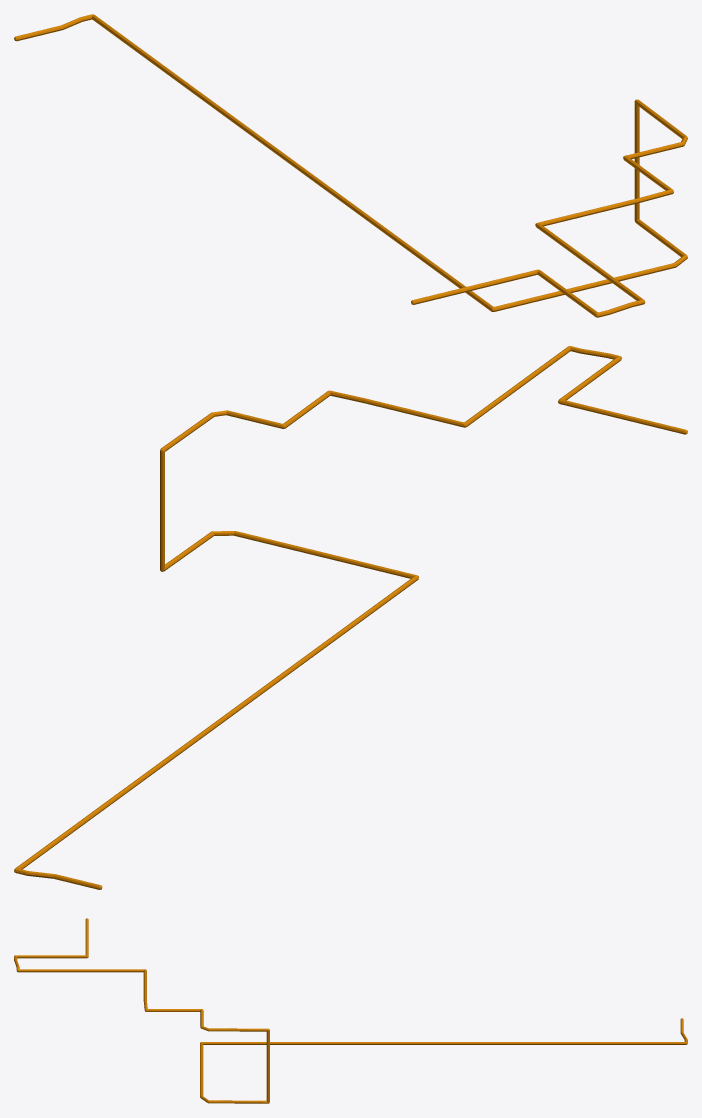
3 renders of one model, top to bottom at view 1: azimuth 30°, elevation 25°; view 2: azimuth 150°, elevation 25°; view 3: azimuth 270°, elevation 25°, orthographic. The views are drawn at different scales.
Bounding box in the file's own units: 1663 × 520 × 4240.
